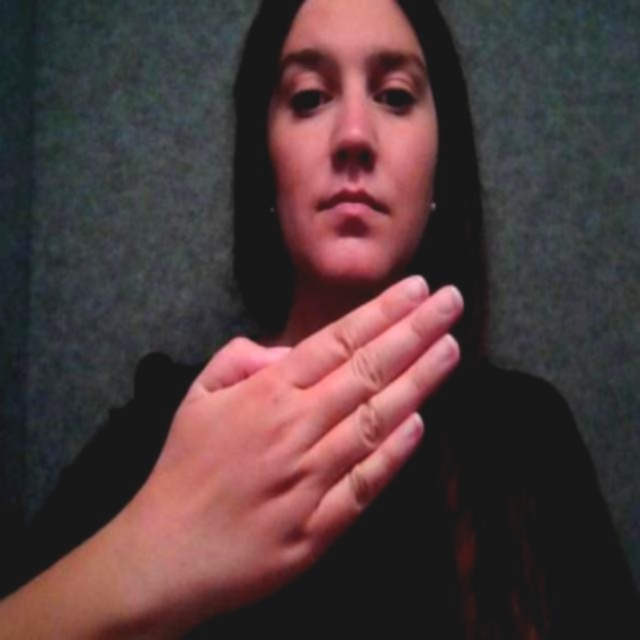Paper: (138, 268, 458, 593)
